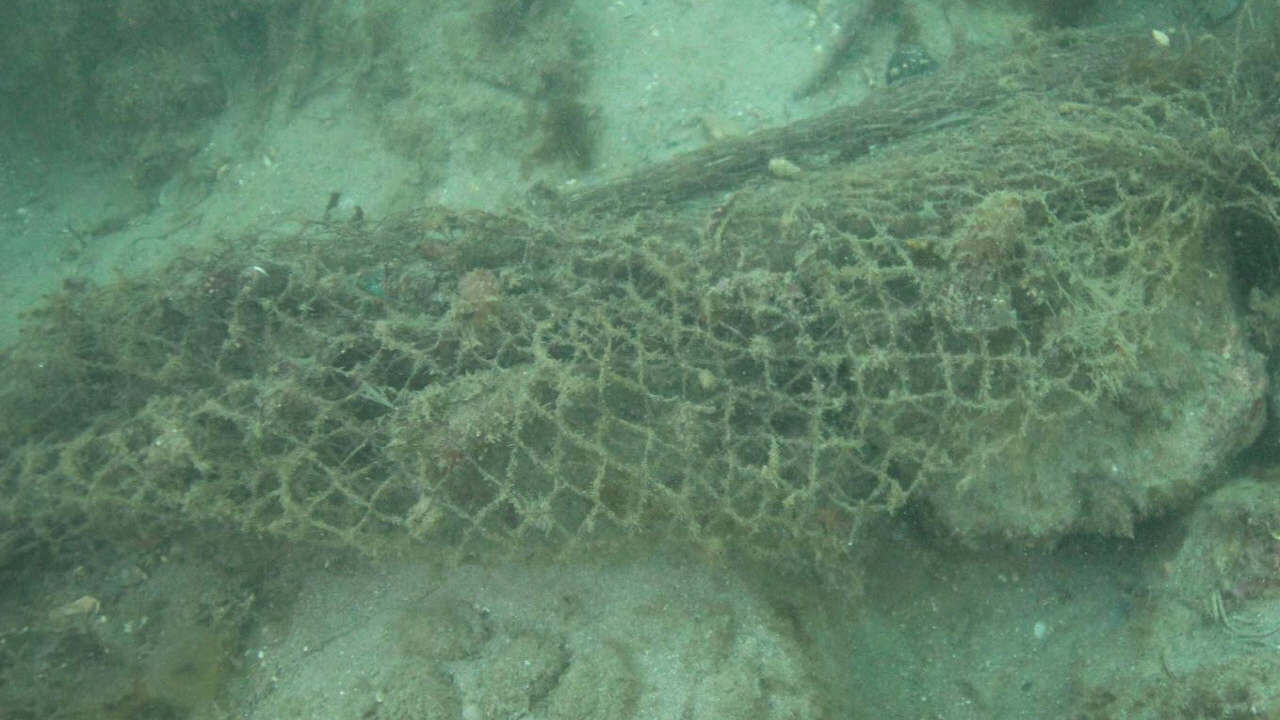fish net: (0, 27, 1279, 570)
